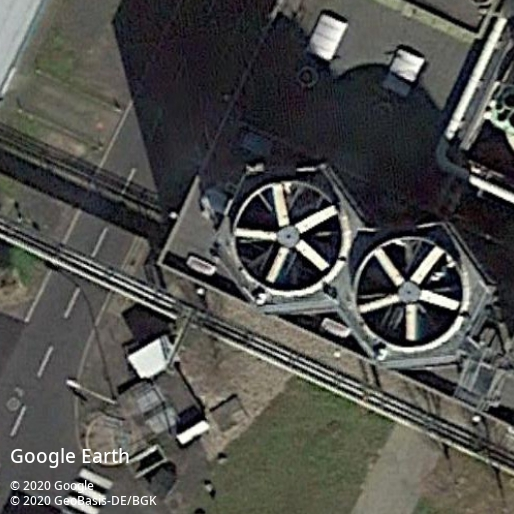Vent: (352, 236, 469, 353), (232, 180, 349, 296)
